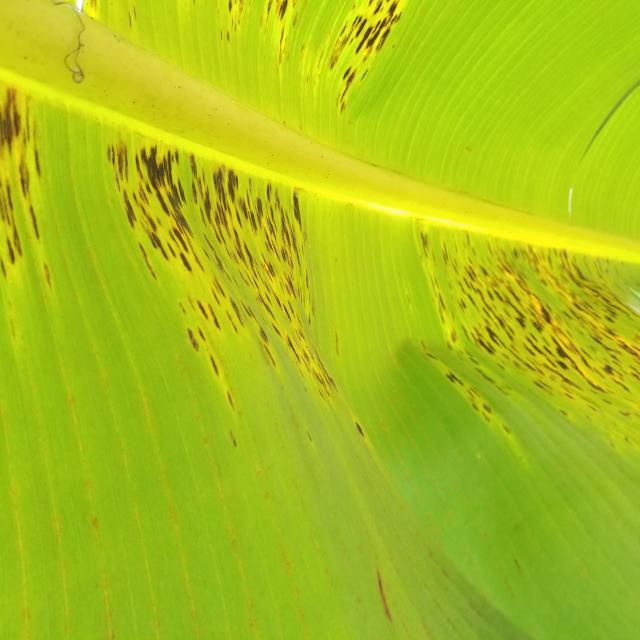Early_rust: (89, 108, 372, 455), (401, 202, 640, 466), (84, 0, 412, 125), (0, 45, 60, 313)
